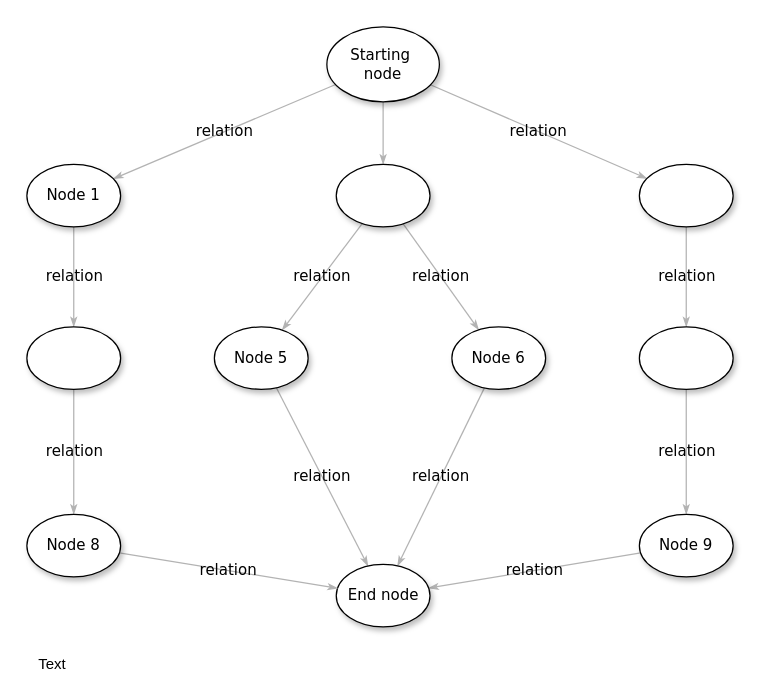
Image size: 763x699. Some labels were removed from this diagram. Here are the shapes that lost their labels. From the top down, the centre of each, then its label:
point 384,197: Node 2
point 687,197: Node 3
point 74,359: Node 4
point 687,359: Node 7
